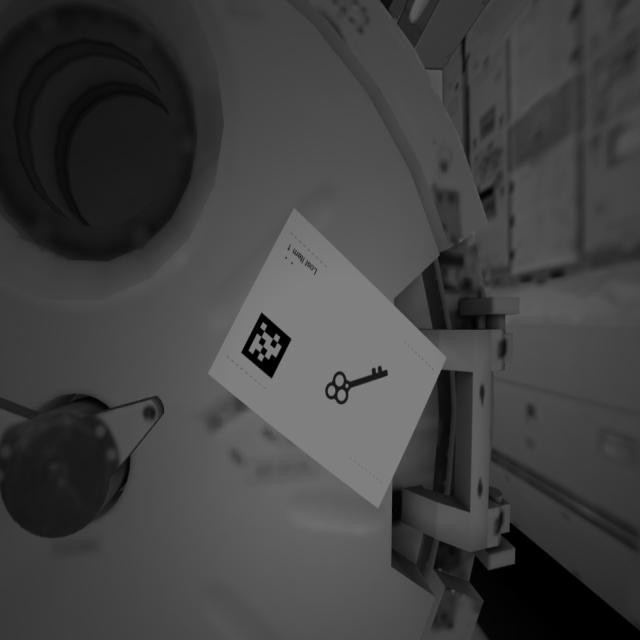key: (319, 352, 396, 413)
